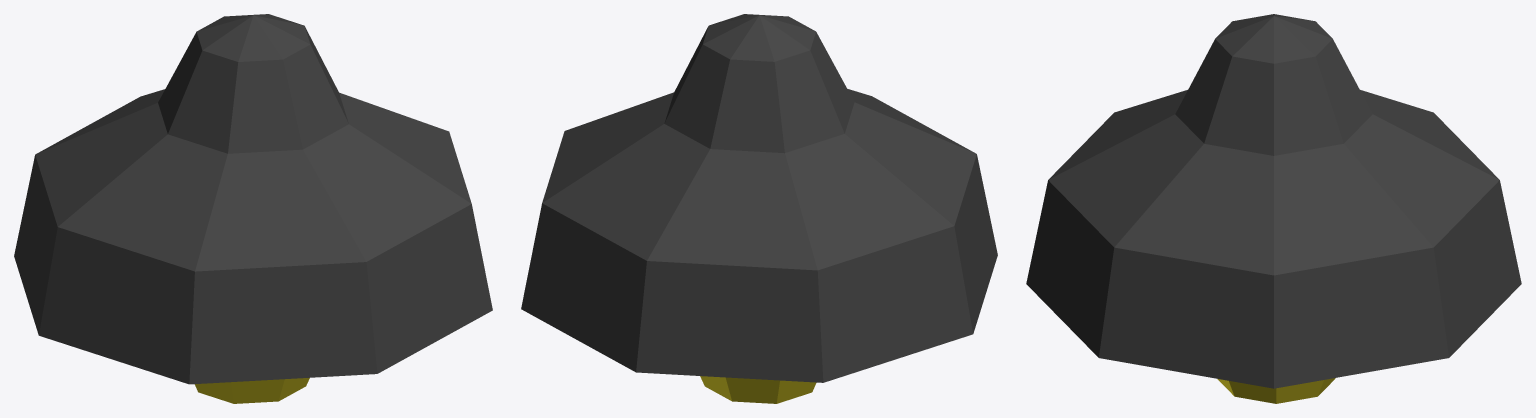
The model's file is SM_lamp_01.fbx.
The picture shows the model from 3 angles, left to right: view 1: azimuth 30°, elevation 25°; view 2: azimuth 150°, elevation 25°; view 3: azimuth 270°, elevation 25°; orthographic projection.
Visible parts, largest first — view 1: Object32285; view 2: Object32285; view 3: Object32285.
Part boxes in pixels (bbox=[...]): Object32285: bbox=[14, 14, 492, 403]; Object32285: bbox=[521, 14, 997, 403]; Object32285: bbox=[1026, 14, 1521, 403].
Bounding box in the file's own units: 19.87 × 17.11 × 19.87.
